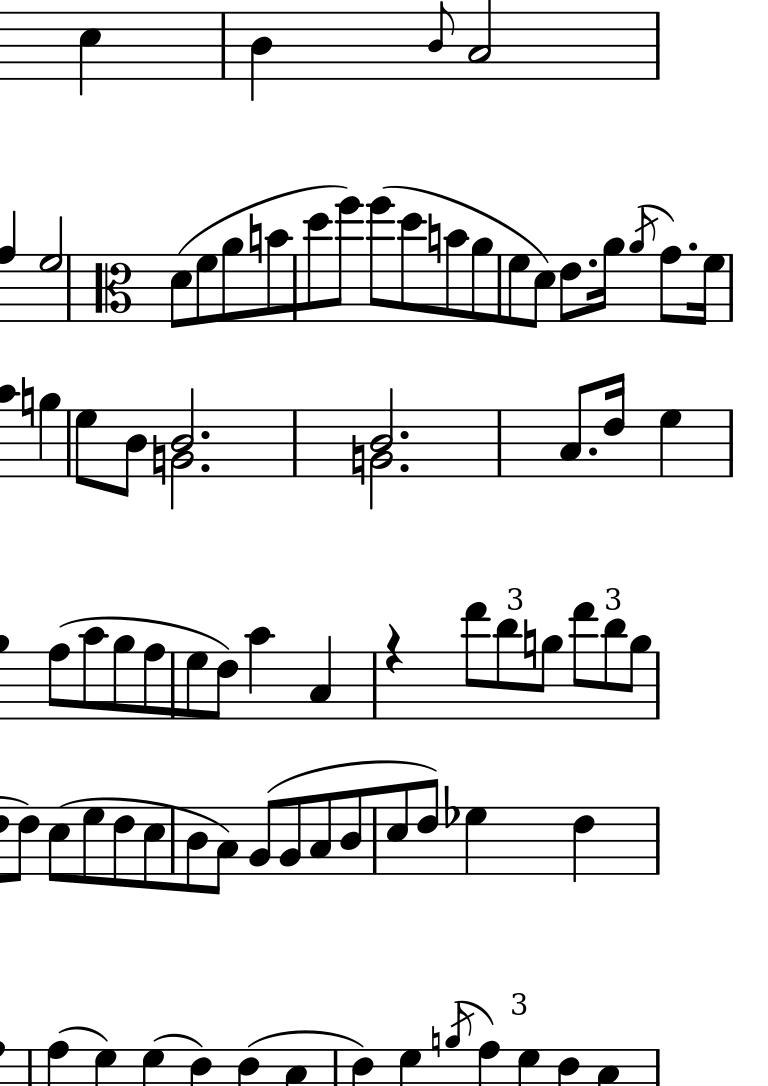16_6: (603, 372, 624, 479)
16_7: (695, 253, 726, 326)
16_9: (595, 238, 623, 324)
2_3: (468, 1, 493, 81)
2_7: (38, 215, 62, 322)
3: (505, 585, 525, 613), (604, 585, 622, 614)
4_10: (246, 625, 272, 721)
4_3: (310, 634, 331, 720)
4_4: (249, 11, 271, 103)
4_5: (78, 10, 101, 96)
4_7: (465, 807, 489, 875), (658, 408, 680, 479)
4_9: (38, 393, 60, 480)
8_10: (80, 625, 106, 721), (444, 228, 469, 324), (267, 229, 289, 324)
8_11: (494, 618, 520, 721), (602, 617, 626, 720)
8_12: (398, 211, 423, 325), (306, 213, 326, 323)
8_13: (462, 600, 487, 721), (570, 601, 595, 719)
8_14: (329, 196, 362, 322), (367, 194, 392, 324)
8_2: (249, 799, 276, 877), (280, 796, 302, 877)
8_3: (557, 382, 591, 479), (212, 806, 238, 897), (308, 793, 335, 875)
8_4: (118, 407, 146, 497), (427, 1, 456, 82), (183, 805, 208, 894), (339, 788, 364, 876)
8_5: (385, 783, 410, 877), (528, 253, 555, 329), (167, 254, 193, 331), (532, 251, 557, 328), (143, 806, 164, 893), (47, 805, 69, 883)
8_6: (414, 778, 440, 877), (208, 650, 239, 720), (12, 806, 38, 883), (112, 806, 135, 889), (558, 253, 581, 324)
8_7: (80, 807, 105, 884), (506, 252, 530, 328), (195, 253, 219, 326), (74, 409, 95, 490), (185, 651, 207, 721)
8_8: (143, 641, 165, 721)
8_9: (536, 634, 563, 721), (469, 236, 494, 325), (219, 237, 244, 324), (626, 634, 651, 721), (45, 642, 71, 721), (112, 634, 135, 721), (659, 246, 680, 324)
Cclef: (93, 252, 131, 324)
Flat: (572, 805, 595, 881), (443, 785, 459, 829), (427, 212, 440, 264), (523, 618, 536, 668)
Natural: (150, 432, 167, 488), (247, 210, 264, 264), (349, 433, 366, 487), (20, 376, 37, 428), (429, 1025, 442, 1058)
Rests4: (386, 623, 403, 674)
Single_barline: (61, 254, 85, 322), (721, 254, 741, 326), (645, 12, 666, 80), (165, 650, 185, 720), (287, 253, 306, 323), (57, 411, 76, 477), (216, 12, 234, 80), (647, 654, 666, 717), (366, 654, 384, 719), (491, 254, 508, 322), (648, 809, 666, 872), (488, 414, 506, 476), (723, 408, 738, 479), (367, 810, 384, 872), (286, 412, 303, 472), (164, 821, 182, 875), (649, 1050, 663, 1085)
Slur: (57, 798, 236, 834), (56, 616, 231, 649), (268, 757, 437, 791), (247, 1029, 365, 1049), (58, 1025, 111, 1042), (152, 1032, 202, 1048)
dot: (395, 425, 415, 446), (197, 457, 217, 477), (395, 457, 415, 476), (196, 424, 215, 444), (586, 441, 603, 461), (586, 252, 602, 272), (685, 240, 703, 255), (586, 443, 600, 460), (585, 257, 601, 271), (683, 238, 697, 252), (198, 429, 210, 441), (199, 463, 214, 472), (399, 429, 409, 441), (398, 462, 409, 472)
